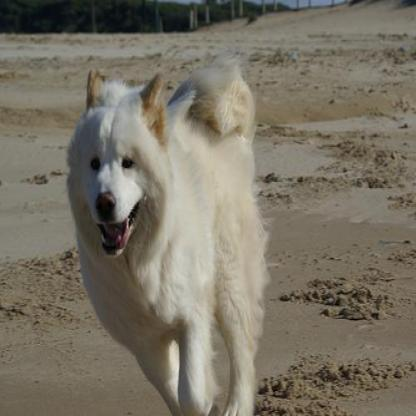Samoyed: (64, 51, 270, 414)
